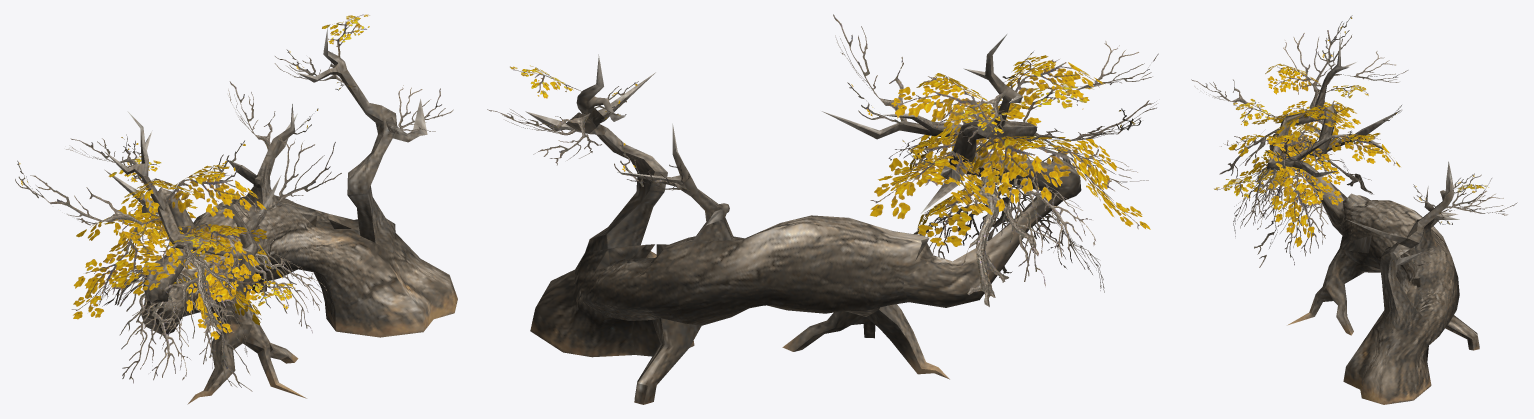
File: xsm_shu_5.FBX
3 renders of one model, left to right at view 1: azimuth 30°, elevation 25°; view 2: azimuth 150°, elevation 25°; view 3: azimuth 270°, elevation 25°, orthographic. The views are drawn at different scales.
Parts seen in each view (by area): view 1: xsm_shu_5; view 2: xsm_shu_5; view 3: xsm_shu_5.
Boxes of the visible parts, x1,y1,x2,y2 form: xsm_shu_5: (15,14,457,404); xsm_shu_5: (487,14,1158,404); xsm_shu_5: (1191,15,1517,404).
Size of the model in its own units: 490 by 293 by 362.
